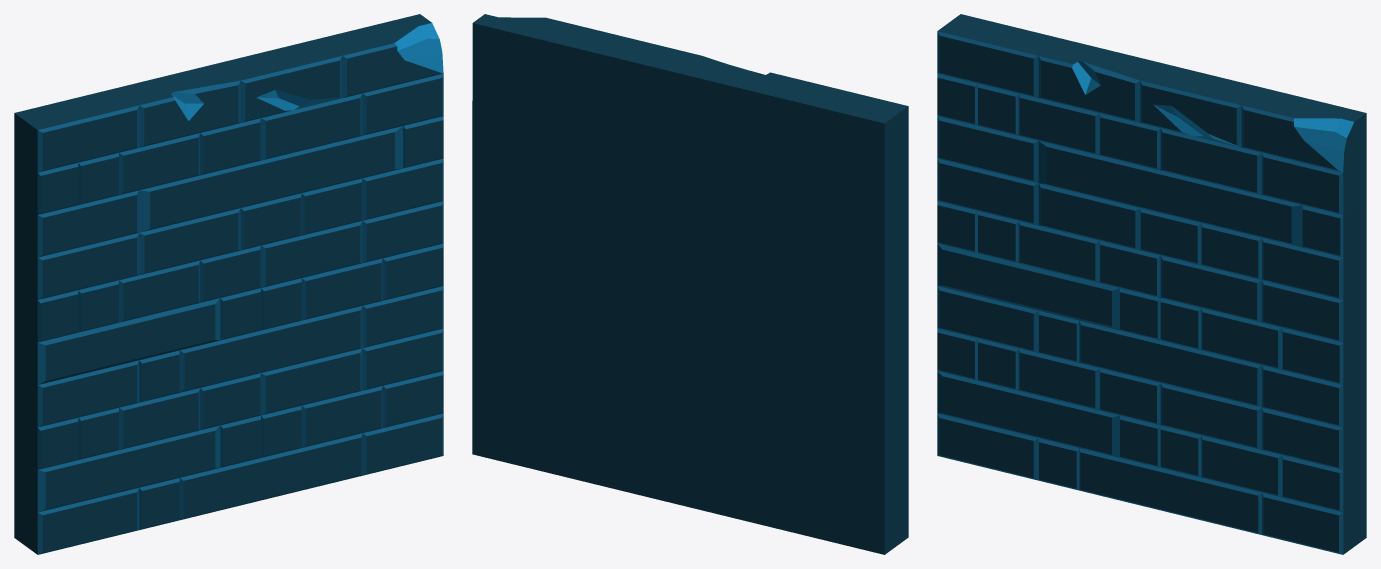
File: wall_type_01.fbx
3 views of the same model, side by side, from view 1: azimuth 30°, elevation 25°; view 2: azimuth 150°, elevation 25°; view 3: azimuth 330°, elevation 25° (orthographic).
Visible parts, largest first — view 1: wall_type_01; view 2: wall_type_01; view 3: wall_type_01.
Part boxes in pixels (x1,y1,x2,y2): wall_type_01: (14,14,443,554); wall_type_01: (472,14,908,554); wall_type_01: (937,14,1366,554).
Size of the model in its own units: 200 by 200 by 21.2.
